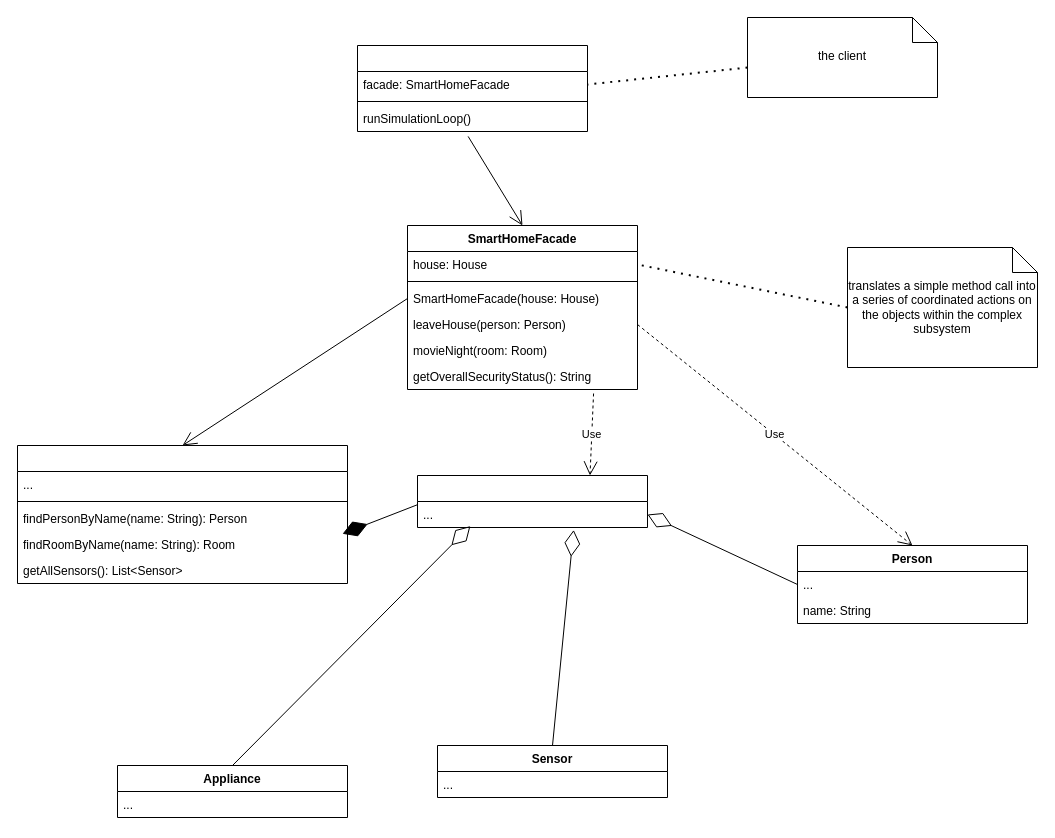
Image size: 1055x838. Some labels were removed from this diagram. Here are the shapes that lost their labels. From the top down, the box of each, then its label:
(356, 44, 588, 132): SimulationManager
(16, 444, 348, 584): House
(416, 474, 648, 528): Room
